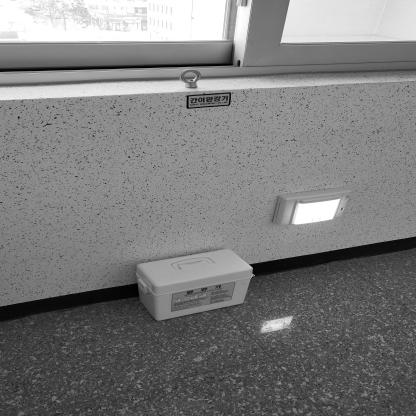DDL: (135, 249, 252, 319)
